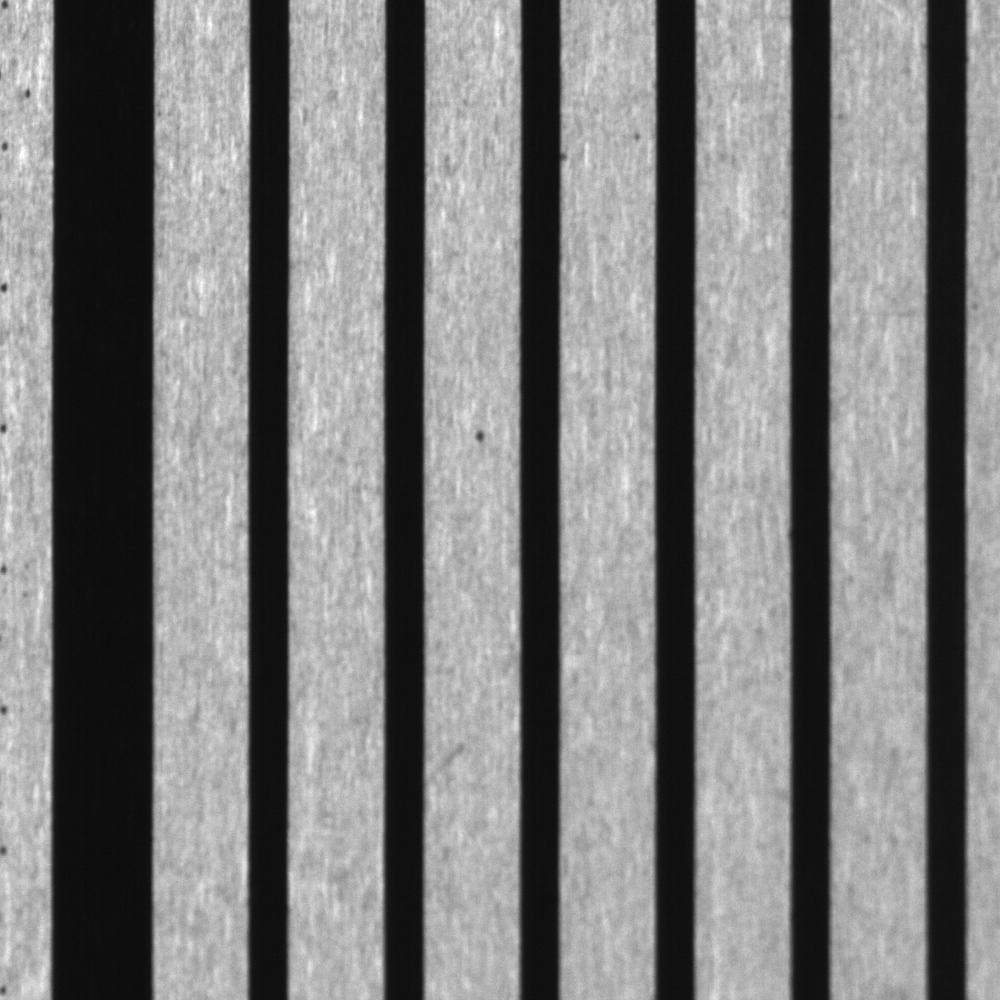Etching: (426, 733, 475, 781), (560, 128, 579, 176)
Pinhole: (620, 117, 655, 156), (464, 411, 495, 455)
